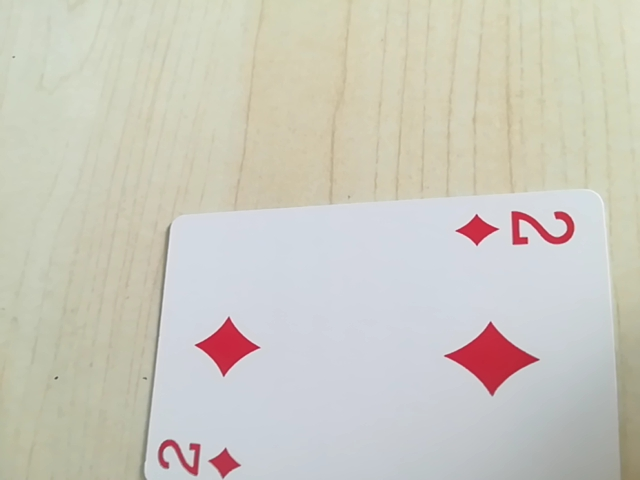fk 2: (453, 203, 580, 256), (154, 430, 250, 480)
